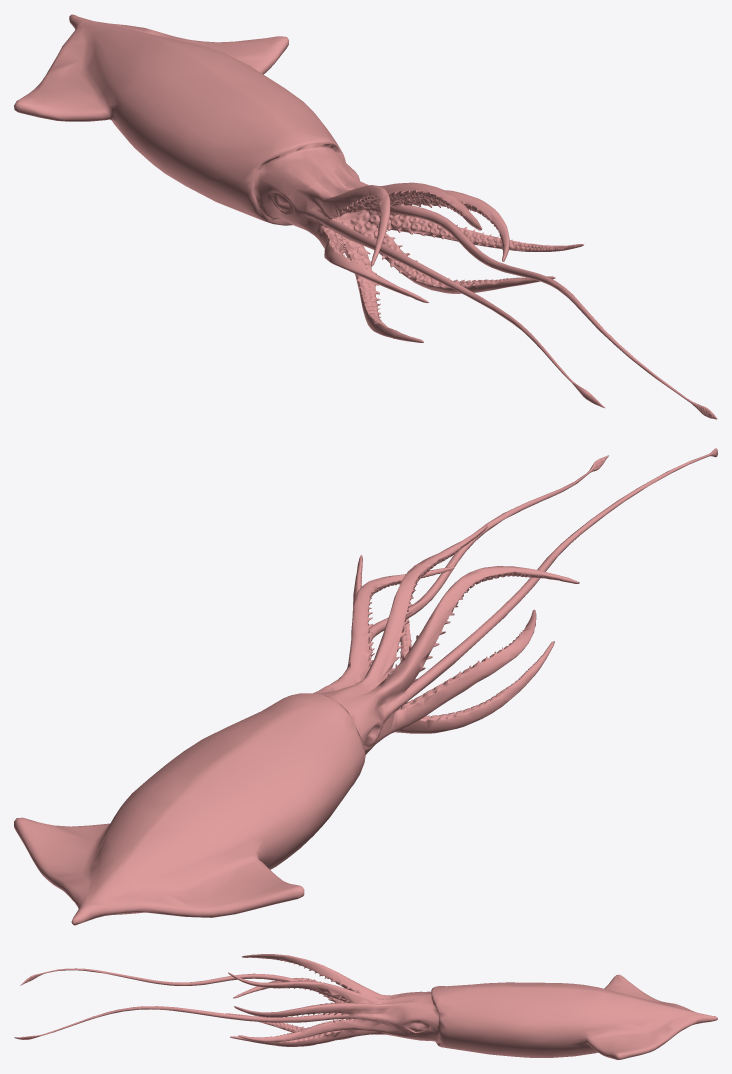
The model's file is squid-morphin.glb.
3 renders of one model, top to bottom at view 1: azimuth 30°, elevation 25°; view 2: azimuth 150°, elevation 25°; view 3: azimuth 270°, elevation 25°, orthographic. The views are drawn at different scales.
Visible parts, largest first — view 1: Cylinder.001_Material_0; view 2: Cylinder.001_Material_0; view 3: Cylinder.001_Material_0.
Part boxes in pixels (x1,y1,x2,y2): Cylinder.001_Material_0: [14, 14, 717, 419]; Cylinder.001_Material_0: [14, 448, 717, 925]; Cylinder.001_Material_0: [14, 954, 717, 1059].
Size of the model in its own units: 1.36 by 0.6844 by 4.95.
